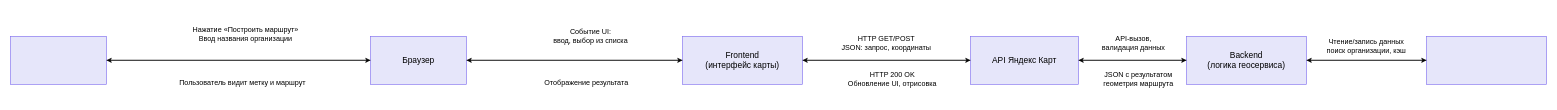
The diagram is 1557 pixels wide and 110 high, and some of its shapes have lost their labels. Each missing label, with the box of its shape:
Пользователь: (10, 36, 106, 84)
Хранилище данных (карты, организации): (1426, 36, 1546, 84)
